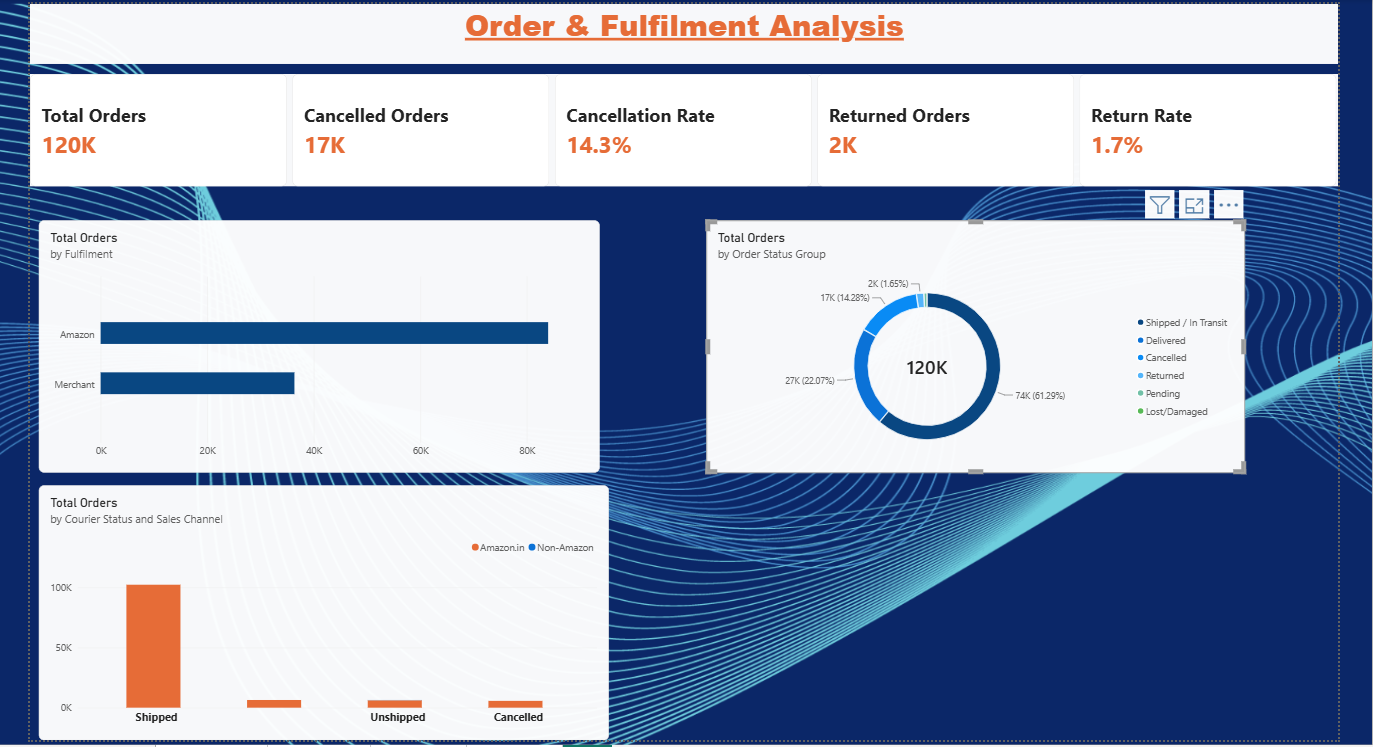

Layout of this report page (visuals, bound fields, positions):
{"tool":"powerbi","page":{"name":"Page 2","canvas":[1920,1080],"ordinal":3},"visuals":[{"type":"clusteredBarChart","fields":{"Category":["SALES.Fulfilment"],"Y":["Measures (2).Total Orders"]},"box":[12.8,317.3,823.6,370.5],"z":0},{"type":"textbox","box":[0,0,1920.5,88],"z":1},{"type":"cardVisual","fields":{"Data":["Measures (2).Total Orders","Measures (2).Cancelled Orders","Measures (2).Cancellation Rate","Measures (2).Returned Orders","Measures (2).Return Rate"]},"box":[0,102.7,1920.5,165.1],"z":2},{"type":"donutChart","fields":{"Category":["SALES.Order Status Group"],"Y":["Measures (2).Total Orders"]},"box":[992.3,317.3,790.6,370.5],"z":3},{"type":"columnChart","fields":{"Category":["SALES.Courier Status"],"Series":["SALES.Sales Channel "],"Y":["Measures (2).Total Orders"]},"box":[12.8,706.2,836.4,374.2],"z":4}]}

Visuals, with their boxes in screenshot pixels (x1, y1, x2, y2):
clusteredBarChart - SALES.Fulfilment x Measures (2).Total Orders: 34, 217, 596, 469
textbox: 25, 0, 1336, 60
cardVisual - Measures (2).Total Orders x Measures (2).Cancelled Orders: 25, 70, 1336, 183
donutChart - SALES.Order Status Group x Measures (2).Total Orders: 702, 217, 1242, 469
columnChart - SALES.Courier Status x SALES.Sales Channel : 34, 482, 604, 737
